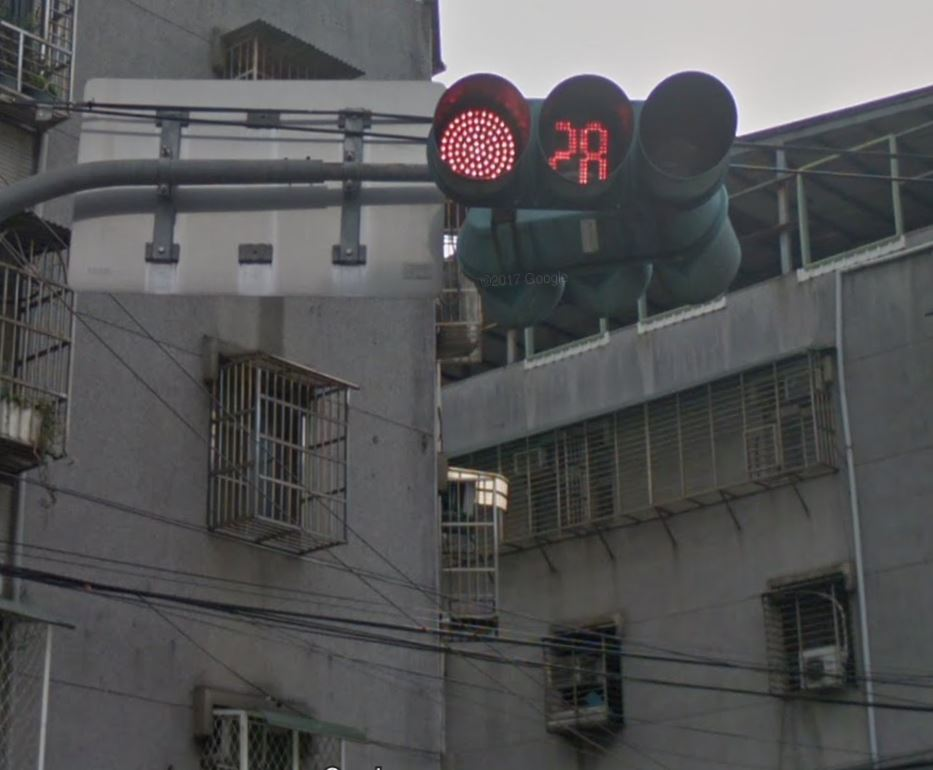Traffic_light_red: (429, 72, 741, 191)
